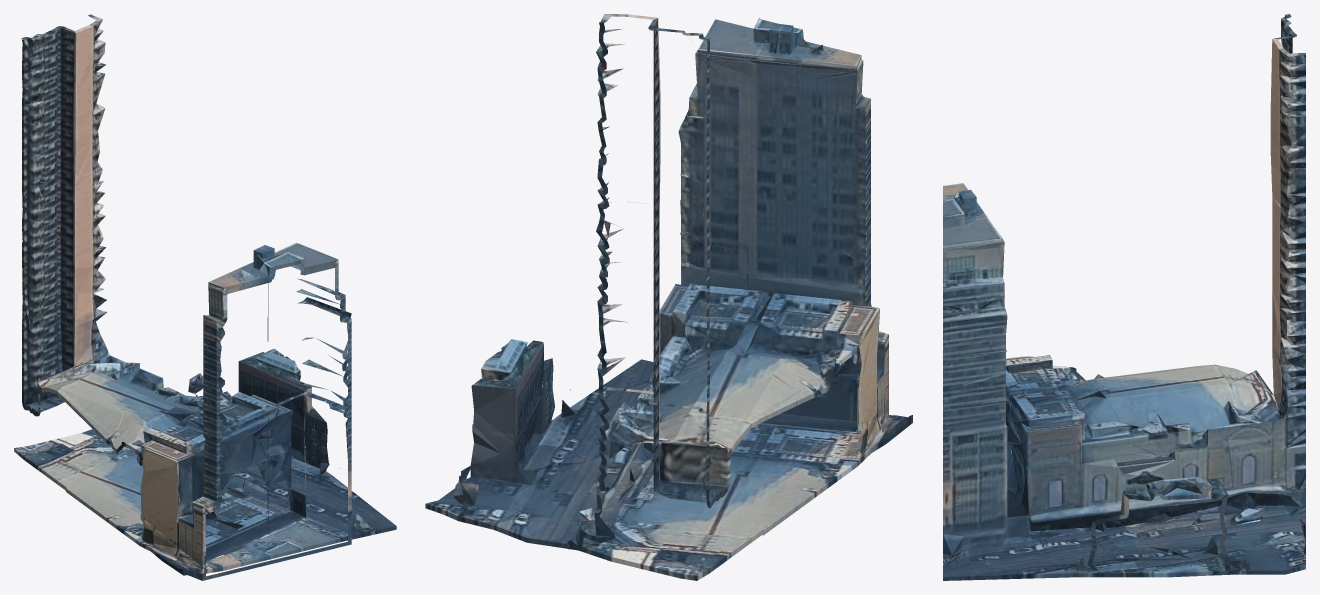
File: chunk_1_2.glb
3 views of the same model, side by side, from view 1: azimuth 30°, elevation 25°; view 2: azimuth 150°, elevation 25°; view 3: azimuth 270°, elevation 25° (orthographic). The views are drawn at different scales.
Visible parts, largest first — view 1: hero-chunk; view 2: hero-chunk; view 3: hero-chunk.
Part boxes in pixels (box(x1,y1,x2,y2)): hero-chunk: box(14, 14, 396, 580); hero-chunk: box(425, 14, 912, 580); hero-chunk: box(943, 14, 1305, 580).
Bounding box in the file's own units: 55.73 × 107 × 76.32.
2 materials, 2 textured.
